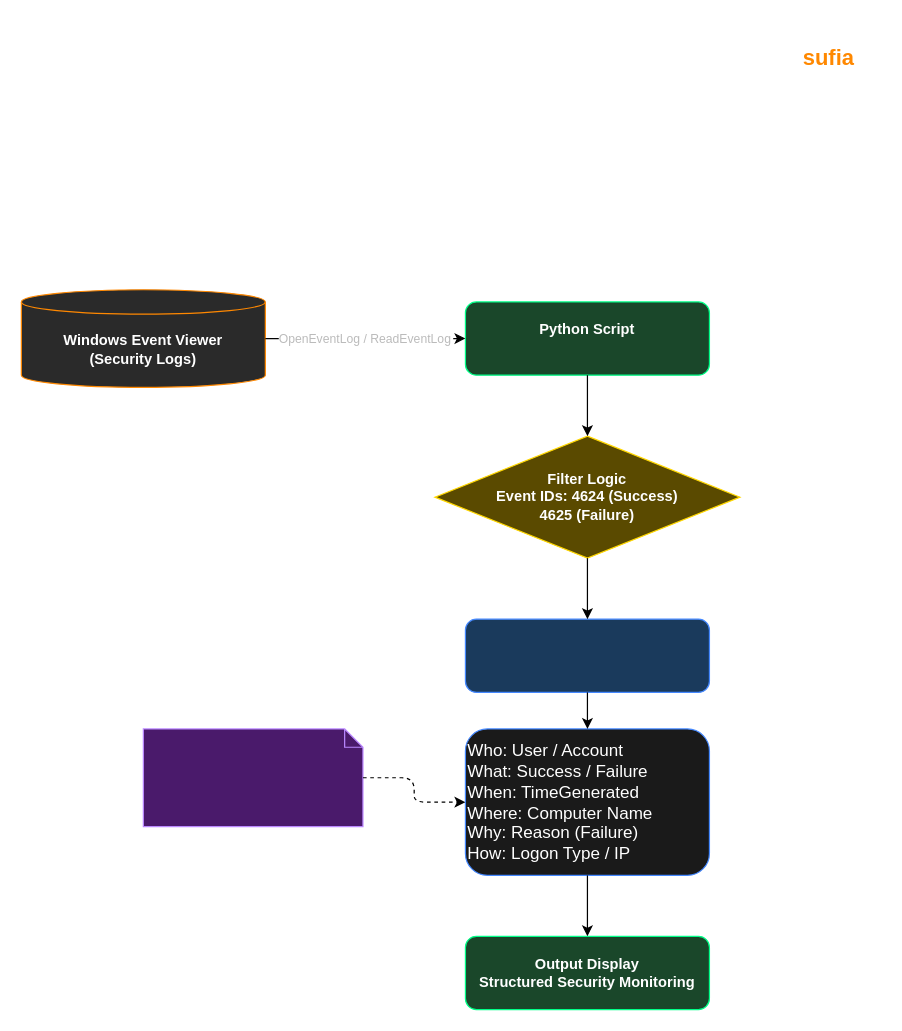
Image size: 902x1031. Some labels were removed from this diagram. The centre of each missing label's shape, as x and y in pixels:
"Extract 5W1H Data" goes at (x=586, y=655).
"LogonType Mapping Interactive, Network, RDP, etc." goes at (x=252, y=777).
